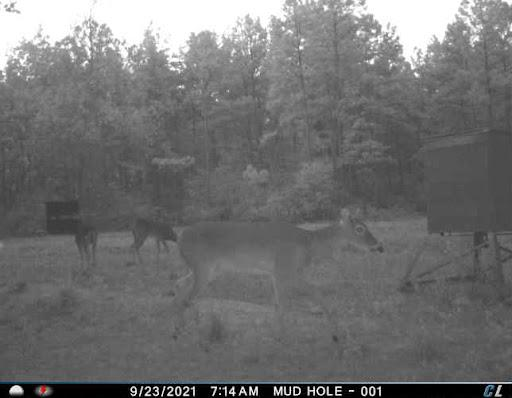Deer: (175, 200, 396, 352), (129, 207, 178, 266), (72, 211, 104, 274)
